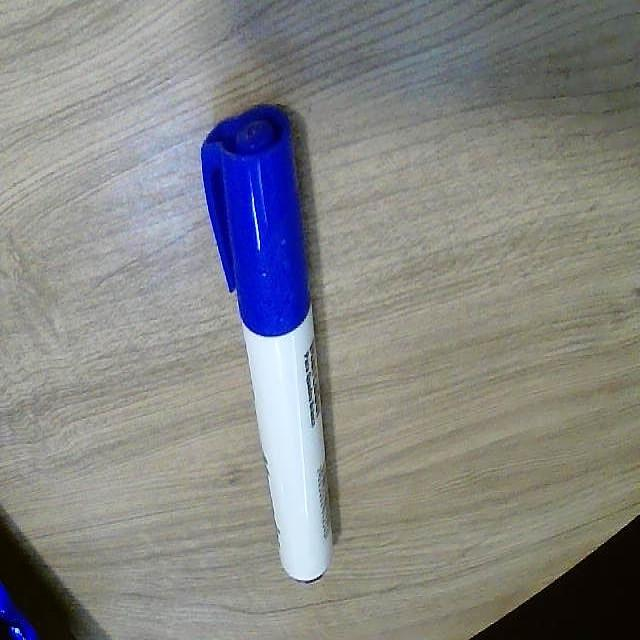caneta: (189, 99, 346, 586)
